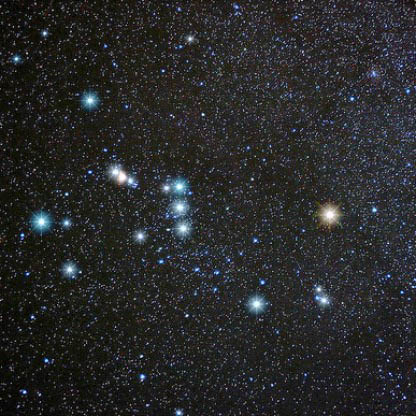Orion: (312, 194, 349, 231), (70, 82, 106, 116), (25, 203, 58, 239), (244, 288, 273, 322), (162, 170, 192, 197), (169, 220, 197, 245), (168, 199, 192, 218)
